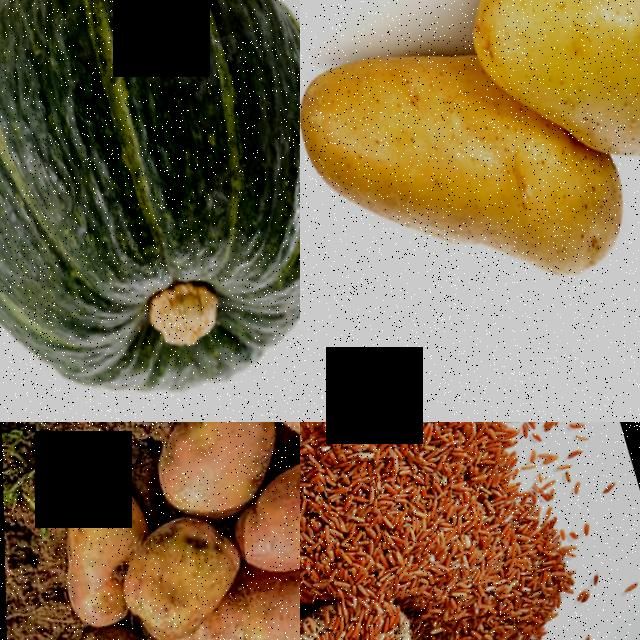potato: (300, 4, 532, 319), (446, 0, 640, 219), (108, 505, 253, 640), (133, 422, 291, 530), (39, 475, 143, 635), (223, 453, 300, 590)
pumpkin: (0, 0, 300, 422)
red rice: (300, 422, 507, 640), (391, 516, 583, 640)
